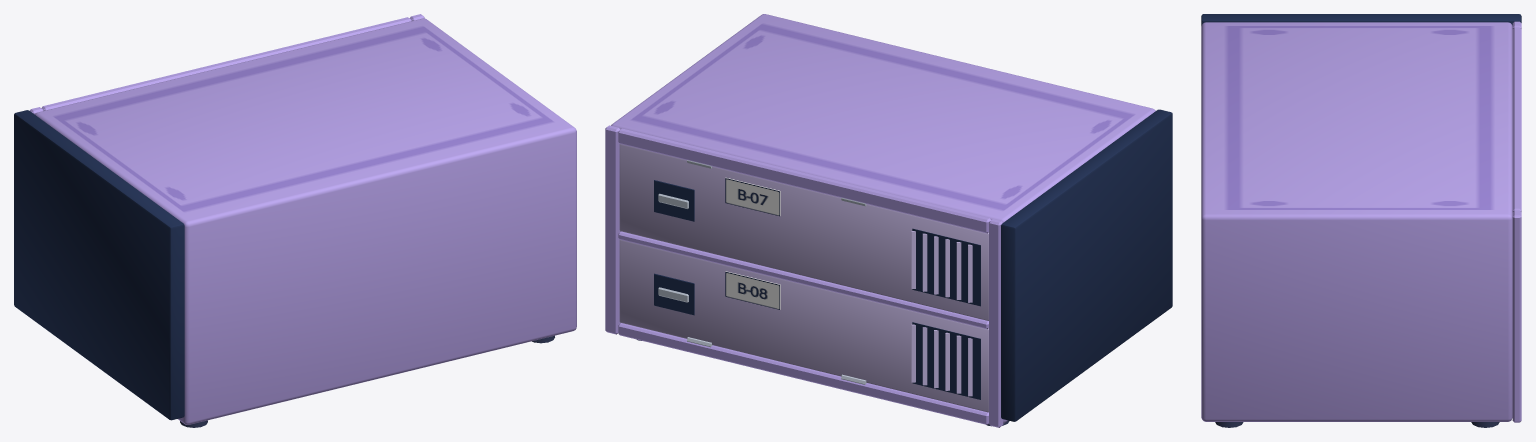
Rendered from bureau_locker.glb.
The picture shows the model from 3 angles, left to right: view 1: azimuth 30°, elevation 25°; view 2: azimuth 150°, elevation 25°; view 3: azimuth 270°, elevation 25°; orthographic projection.
Visible parts, largest first — view 1: bureau_locker; view 2: bureau_locker; view 3: bureau_locker.
Part boxes in pixels (box(x1,y1,x2,y2)): bureau_locker: box(14, 14, 576, 427); bureau_locker: box(605, 14, 1172, 427); bureau_locker: box(1201, 14, 1521, 427).
Bounding box in the file's own units: 12 × 6 × 8.
1 material, 1 textured.
